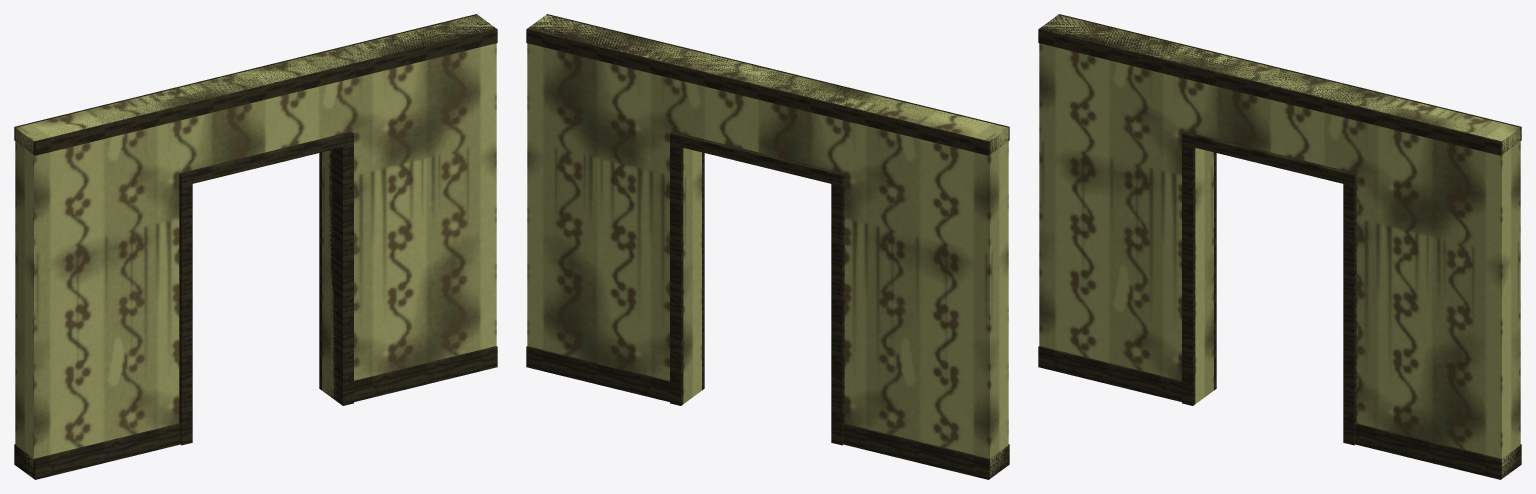
File: Wall_Door.fbx
3 views of the same model, side by side, from view 1: azimuth 30°, elevation 25°; view 2: azimuth 150°, elevation 25°; view 3: azimuth 330°, elevation 25° (orthographic).
Visible parts, largest first — view 1: Wall_Door_Left, Wall_Door_Right, Wall_Door_Cornice, Wall_Door_Lintel, Wall_Door_FrameRight, Wall_Door_SkirtingLeft, Wall_Door_FrameLeft, Wall_Door_SkirtingRight, Wall_Door_FrameHead; view 2: Wall_Door_Left, Wall_Door_Right, Wall_Door_Cornice, Wall_Door_Lintel, Wall_Door_FrameRight, Wall_Door_SkirtingLeft, Wall_Door_FrameLeft, Wall_Door_SkirtingRight, Wall_Door_FrameHead; view 3: Wall_Door_Right, Wall_Door_Left, Wall_Door_Cornice, Wall_Door_Lintel, Wall_Door_FrameLeft, Wall_Door_SkirtingRight, Wall_Door_FrameRight, Wall_Door_SkirtingLeft, Wall_Door_FrameHead.
Boxes of the visible parts, box(x1,y1,x2,y2) form: Wall_Door_Left: box(15, 89, 189, 475); Wall_Door_Right: box(322, 15, 496, 400); Wall_Door_Cornice: box(14, 14, 497, 155); Wall_Door_Lintel: box(172, 53, 340, 170); Wall_Door_FrameRight: box(319, 144, 353, 405); Wall_Door_SkirtingLeft: box(14, 423, 180, 479); Wall_Door_FrameLeft: box(179, 184, 192, 445); Wall_Door_SkirtingRight: box(320, 346, 497, 403); Wall_Door_FrameHead: box(179, 131, 353, 186); Wall_Door_Left: box(834, 89, 1008, 477); Wall_Door_Right: box(527, 15, 701, 403); Wall_Door_Cornice: box(526, 14, 1009, 155); Wall_Door_Lintel: box(683, 53, 851, 170); Wall_Door_FrameRight: box(670, 144, 704, 405); Wall_Door_SkirtingLeft: box(843, 423, 1009, 479); Wall_Door_FrameLeft: box(831, 184, 844, 445); Wall_Door_SkirtingRight: box(526, 346, 703, 401); Wall_Door_FrameHead: box(670, 131, 844, 186); Wall_Door_Right: box(1346, 89, 1520, 477); Wall_Door_Left: box(1039, 15, 1213, 403); Wall_Door_Cornice: box(1038, 14, 1521, 155); Wall_Door_Lintel: box(1195, 53, 1363, 170); Wall_Door_FrameLeft: box(1182, 144, 1216, 405); Wall_Door_SkirtingRight: box(1355, 423, 1521, 479); Wall_Door_FrameRight: box(1343, 184, 1356, 445); Wall_Door_SkirtingLeft: box(1038, 346, 1215, 401); Wall_Door_FrameHead: box(1182, 131, 1356, 186).
Size of the model in its own units: 4.3 by 3 by 0.38.
2 materials, 2 textured.
